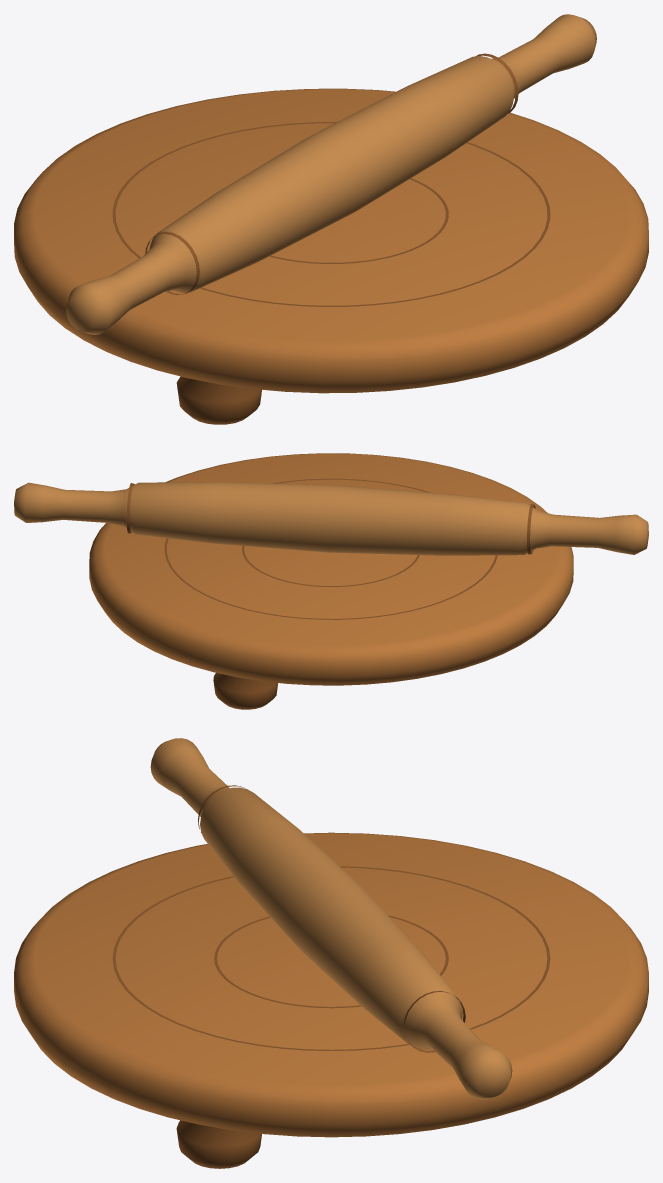
File: item-40.glb
3 renders of one model, top to bottom at view 1: azimuth 30°, elevation 25°; view 2: azimuth 150°, elevation 25°; view 3: azimuth 270°, elevation 25°, orthographic. The views are drawn at different scales.
Visible parts, largest first — view 1: board, belan, foot.001, ring.001, ring; view 2: board, belan, foot, ring.001, ring; view 3: board, belan, foot.002, ring.001, ring.
Boxes of the visible parts, box(x1,y1,x2,y2) form: board: box(14, 88, 648, 393); belan: box(66, 14, 596, 334); foot.001: box(176, 376, 261, 424); ring.001: box(112, 122, 550, 306); ring: box(269, 178, 448, 263); board: box(89, 453, 573, 685); belan: box(14, 482, 648, 555); foot: box(213, 673, 278, 709); ring.001: box(164, 478, 497, 619); ring: box(242, 546, 419, 586); board: box(14, 832, 648, 1137); belan: box(150, 738, 512, 1099); foot.002: box(176, 1120, 261, 1168); ring.001: box(112, 866, 550, 1050); ring: box(214, 915, 448, 1008).
Size of the model in its own units: 0.3075 by 0.085 by 0.25.
